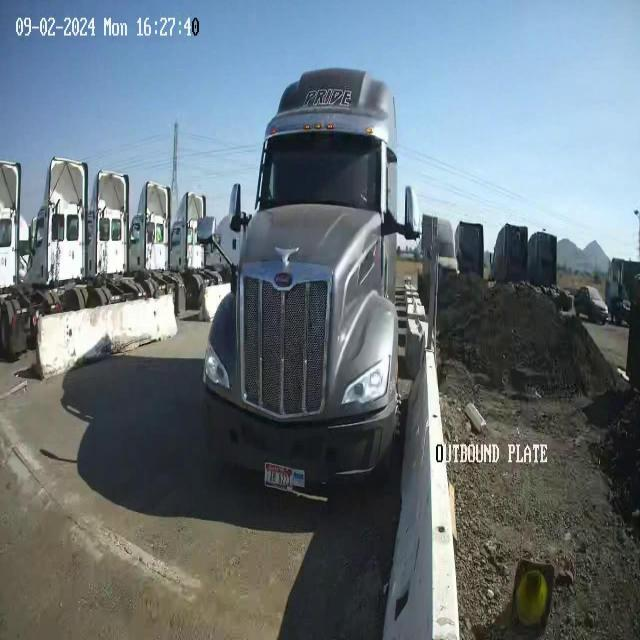TRUCK_OUT: (200, 66, 430, 496)
